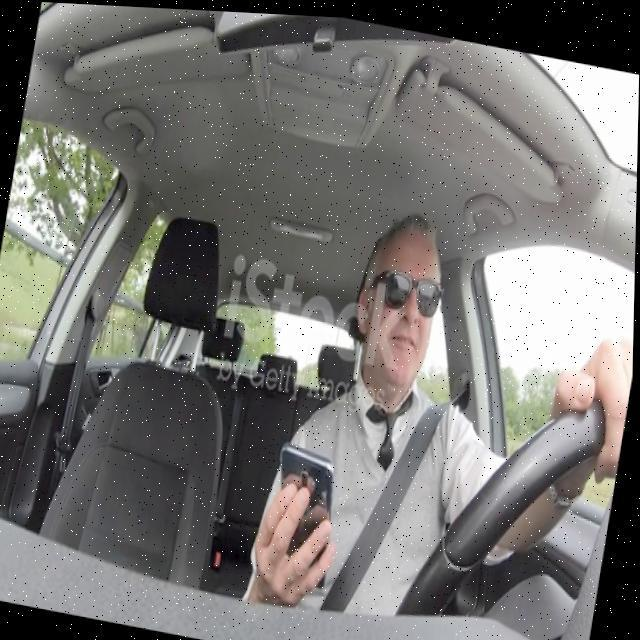PhoneCall: (259, 432, 350, 592)
